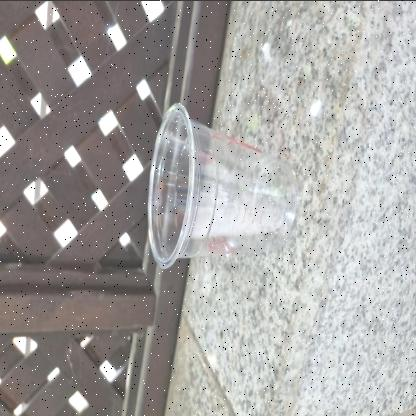Others: (147, 98, 301, 270)
